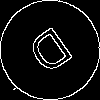D: (25, 25, 81, 84)
